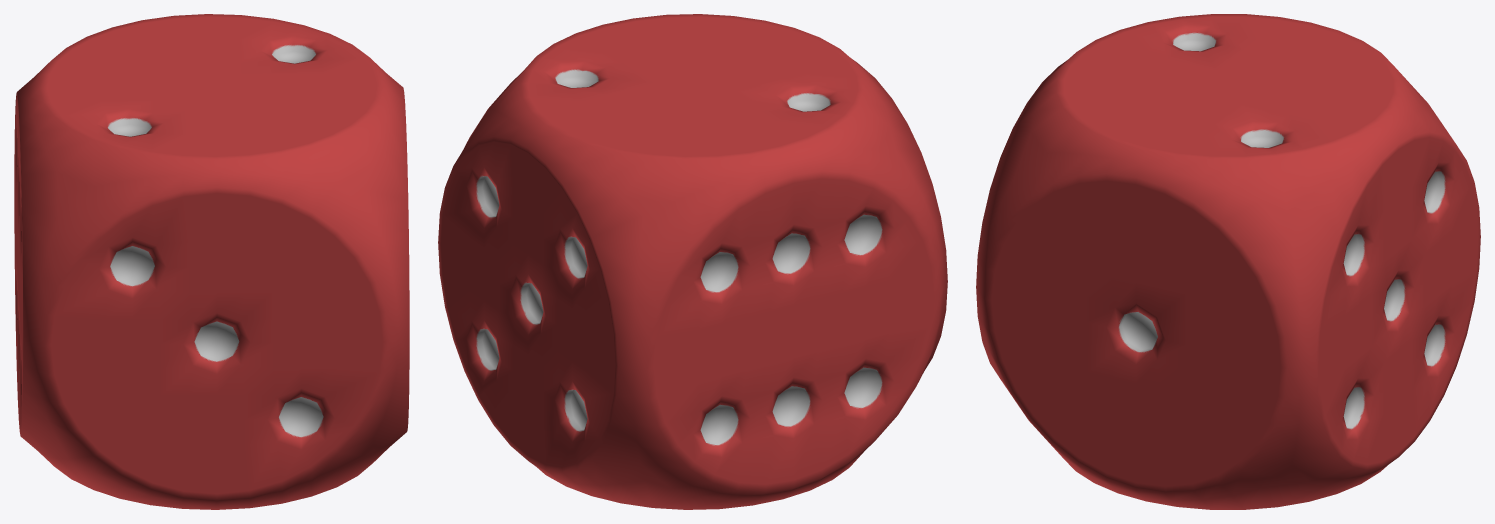
Rendered from diceCollada_dae.dae.
The picture shows the model from 3 angles, left to right: view 1: azimuth 30°, elevation 25°; view 2: azimuth 150°, elevation 25°; view 3: azimuth 270°, elevation 25°; orthographic projection.
Visible parts, largest first — view 1: Dice; view 2: Dice; view 3: Dice.
Boxes of the visible parts, box(x1,y1,x2,y2) form: Dice: box(14, 14, 409, 509); Dice: box(438, 14, 947, 509); Dice: box(976, 14, 1480, 509).
Size of the model in its own units: 0.0131 by 0.01 by 0.0131.
Materials: 1 (1 with a texture image).
